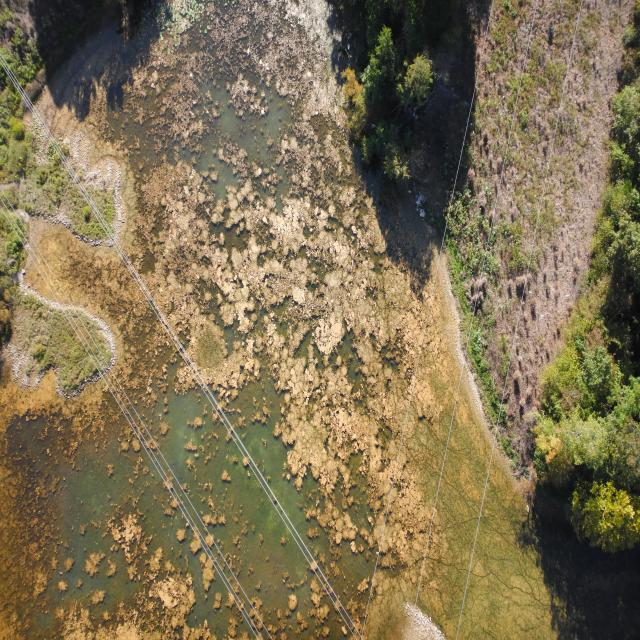Area of Interest: (538, 86, 634, 541), (372, 10, 473, 179)
